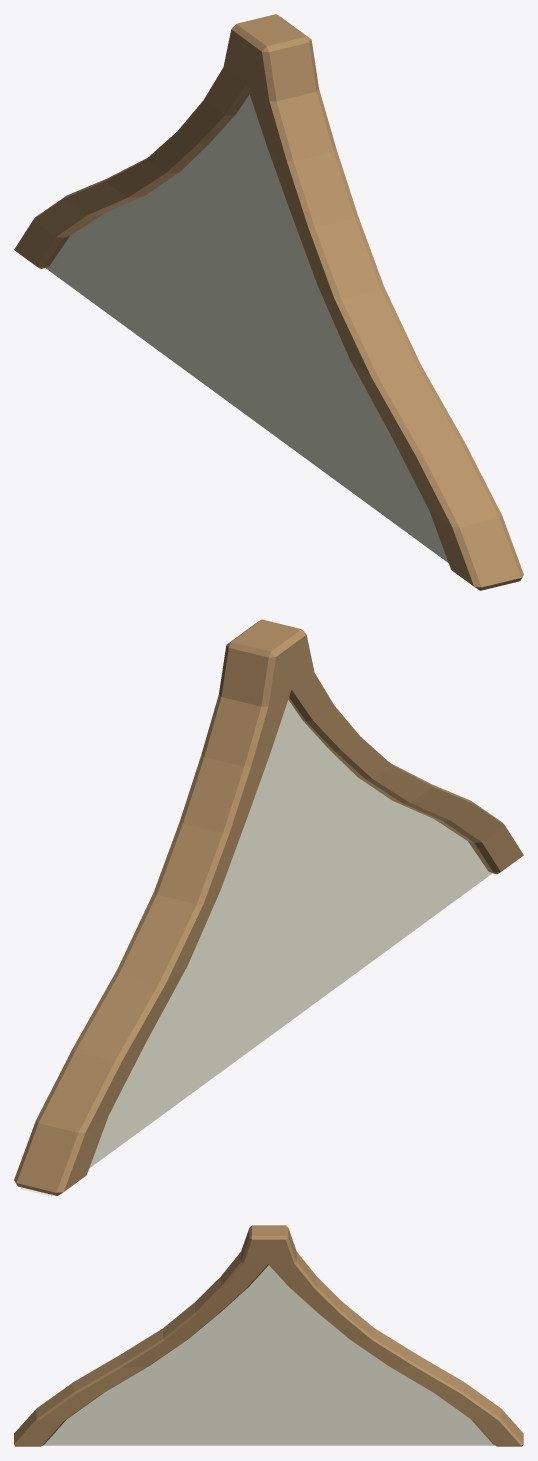
The model's file is BaseRoofWall.fbx.
3 renders of one model, top to bottom at view 1: azimuth 30°, elevation 25°; view 2: azimuth 150°, elevation 25°; view 3: azimuth 270°, elevation 25°, orthographic. The views are drawn at different scales.
Visible parts, largest first — view 1: BaseWall.043; view 2: BaseWall.043; view 3: BaseWall.043.
Part boxes in pixels (x1=…): BaseWall.043: x1=14, y1=14, x2=523, y2=590; BaseWall.043: x1=14, y1=619, x2=523, y2=1196; BaseWall.043: x1=14, y1=1225, x2=523, y2=1446.
Size of the model in its own units: 0.3628 by 2.29 by 5.
